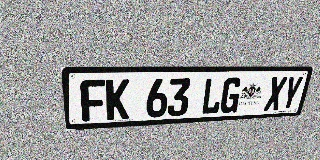3: (167, 78, 191, 117)
6: (146, 78, 169, 118)
F: (80, 79, 106, 122)
G: (219, 77, 243, 114)
K: (106, 79, 129, 120)
L: (200, 78, 224, 115)
X: (263, 77, 288, 111)
Y: (279, 76, 304, 110)
